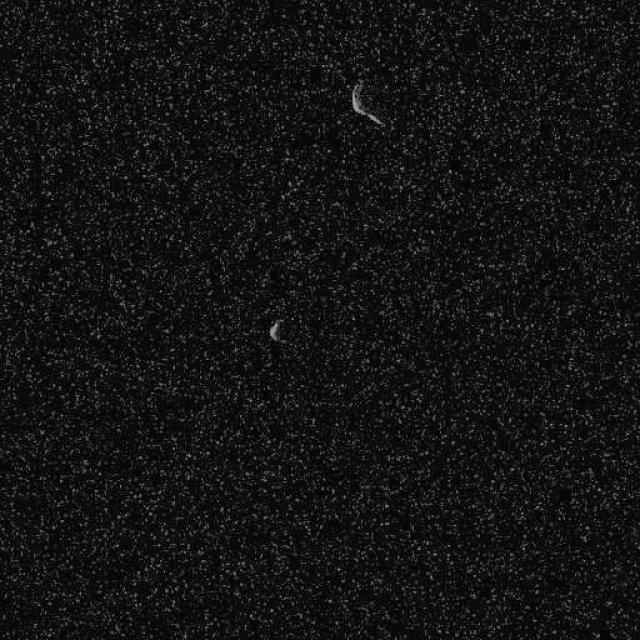D2: (350, 80, 385, 128), (268, 317, 288, 343)
